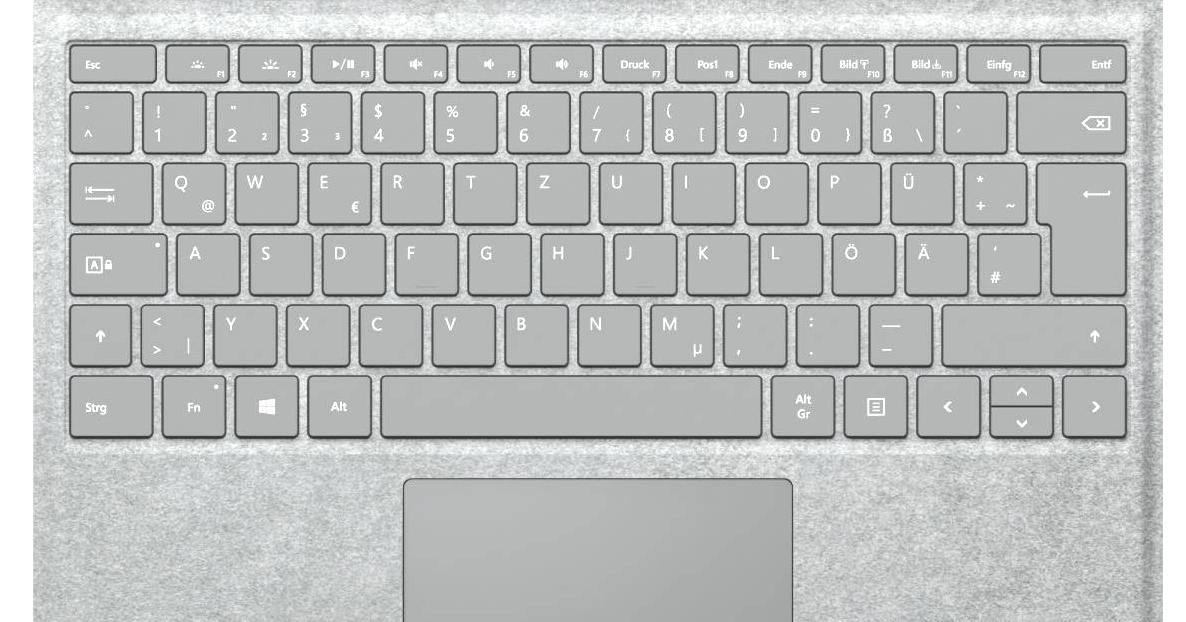0: (793, 85, 860, 153)
1: (138, 86, 203, 152)
2: (210, 86, 277, 152)
3: (282, 85, 349, 152)
4: (356, 85, 422, 151)
5: (428, 86, 495, 152)
6: (502, 85, 568, 151)
7: (575, 86, 641, 152)
8: (647, 86, 713, 152)
9: (719, 85, 787, 153)
a: (171, 227, 238, 294)
accent: (939, 85, 1004, 151)
ae: (899, 228, 966, 294)
alt-left: (302, 369, 371, 436)
altgr-right: (766, 370, 835, 436)
b: (499, 298, 567, 364)
c: (354, 298, 421, 365)
caret: (64, 85, 129, 151)
comma: (718, 298, 785, 364)
d: (317, 228, 383, 294)
del: (1013, 85, 1126, 152)
e: (302, 156, 370, 223)
enter: (1033, 157, 1128, 297)
f: (390, 228, 456, 293)
g: (463, 228, 528, 293)
h: (536, 228, 601, 294)
hash: (973, 227, 1038, 294)
i: (667, 156, 733, 222)
j: (609, 227, 674, 294)
k: (682, 227, 748, 293)
keyboard: (51, 30, 1142, 455)
l: (755, 227, 820, 293)
less: (135, 298, 202, 365)
m: (645, 298, 712, 365)
minus: (863, 298, 931, 364)
n: (572, 298, 639, 365)
o: (739, 156, 806, 223)
oe: (827, 228, 893, 294)
p: (812, 156, 879, 223)
plus: (958, 156, 1025, 223)
point: (791, 298, 858, 363)
q: (156, 157, 224, 223)
r: (376, 157, 442, 223)
s: (244, 228, 311, 294)
shift-left: (64, 298, 130, 365)
shift-lock: (62, 228, 166, 295)
shift-right: (937, 298, 1127, 365)
space: (375, 369, 762, 438)
ss: (865, 85, 932, 152)
strg-left: (61, 369, 152, 437)
t: (449, 157, 514, 222)
tab: (64, 156, 151, 223)
u: (594, 157, 660, 223)
ue: (885, 157, 952, 223)
v: (427, 298, 493, 364)
w: (229, 156, 295, 223)
x: (282, 298, 348, 364)
y: (208, 298, 275, 364)
z: (522, 156, 587, 223)
